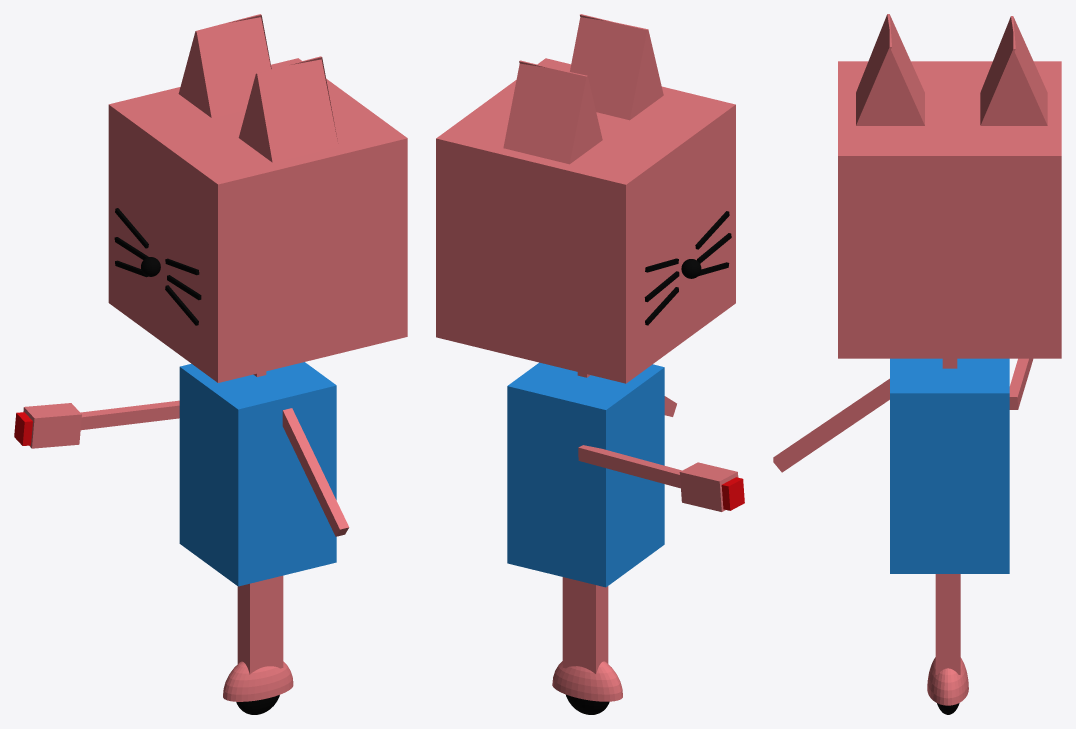
File: ground enemie model.fbx
The picture shows the model from 3 angles, left to right: view 1: azimuth 30°, elevation 25°; view 2: azimuth 150°, elevation 25°; view 3: azimuth 270°, elevation 25°; orthographic projection. The views are drawn at different scales.
Visible parts, largest first — view 1: Cube.001, Cube, Cube.007, Cube.004, Cube.009, Cube.005, Cube.003, Sphere.002, Cube.006; view 2: Cube.001, Cube, Cube.004, Cube.007, Cube.009, Sphere.002, Cube.003, Cube.006, Cube.010, Sphere.001; view 3: Cube.001, Cube, Cube.007, Cube.004, Cube.009, Cube.005, Sphere.002, Cube.006.
Part boxes in pixels (box(x1,y1,x2,y2)): Cube.001: box(108, 58, 407, 382); Cube: box(179, 362, 336, 586); Cube.007: box(238, 56, 338, 162); Cube.004: box(178, 14, 271, 117); Cube.009: box(237, 575, 283, 674); Cube.005: box(282, 408, 349, 536); Cube.003: box(23, 403, 81, 448); Sphere.002: box(223, 661, 293, 701); Cube.006: box(80, 400, 179, 430); Cube.001: box(436, 58, 735, 383); Cube: box(507, 362, 664, 587); Cube.004: box(503, 60, 602, 164); Cube.007: box(570, 14, 663, 120); Cube.009: box(562, 577, 608, 673); Sphere.002: box(552, 661, 622, 701); Cube.003: box(679, 462, 738, 511); Cube.006: box(578, 445, 681, 488); Cube.010: box(721, 477, 744, 510); Sphere.001: box(566, 694, 609, 714); Cube.001: box(838, 61, 1061, 358); Cube: box(890, 358, 1009, 573); Cube.007: box(856, 14, 924, 125); Cube.004: box(980, 16, 1047, 125); Cube.009: box(935, 574, 960, 674); Cube.005: box(773, 378, 889, 472); Sphere.002: box(927, 657, 968, 705); Cube.006: box(1009, 358, 1033, 409).
Bounding box in the file's own units: 102 × 222 × 85.08.
